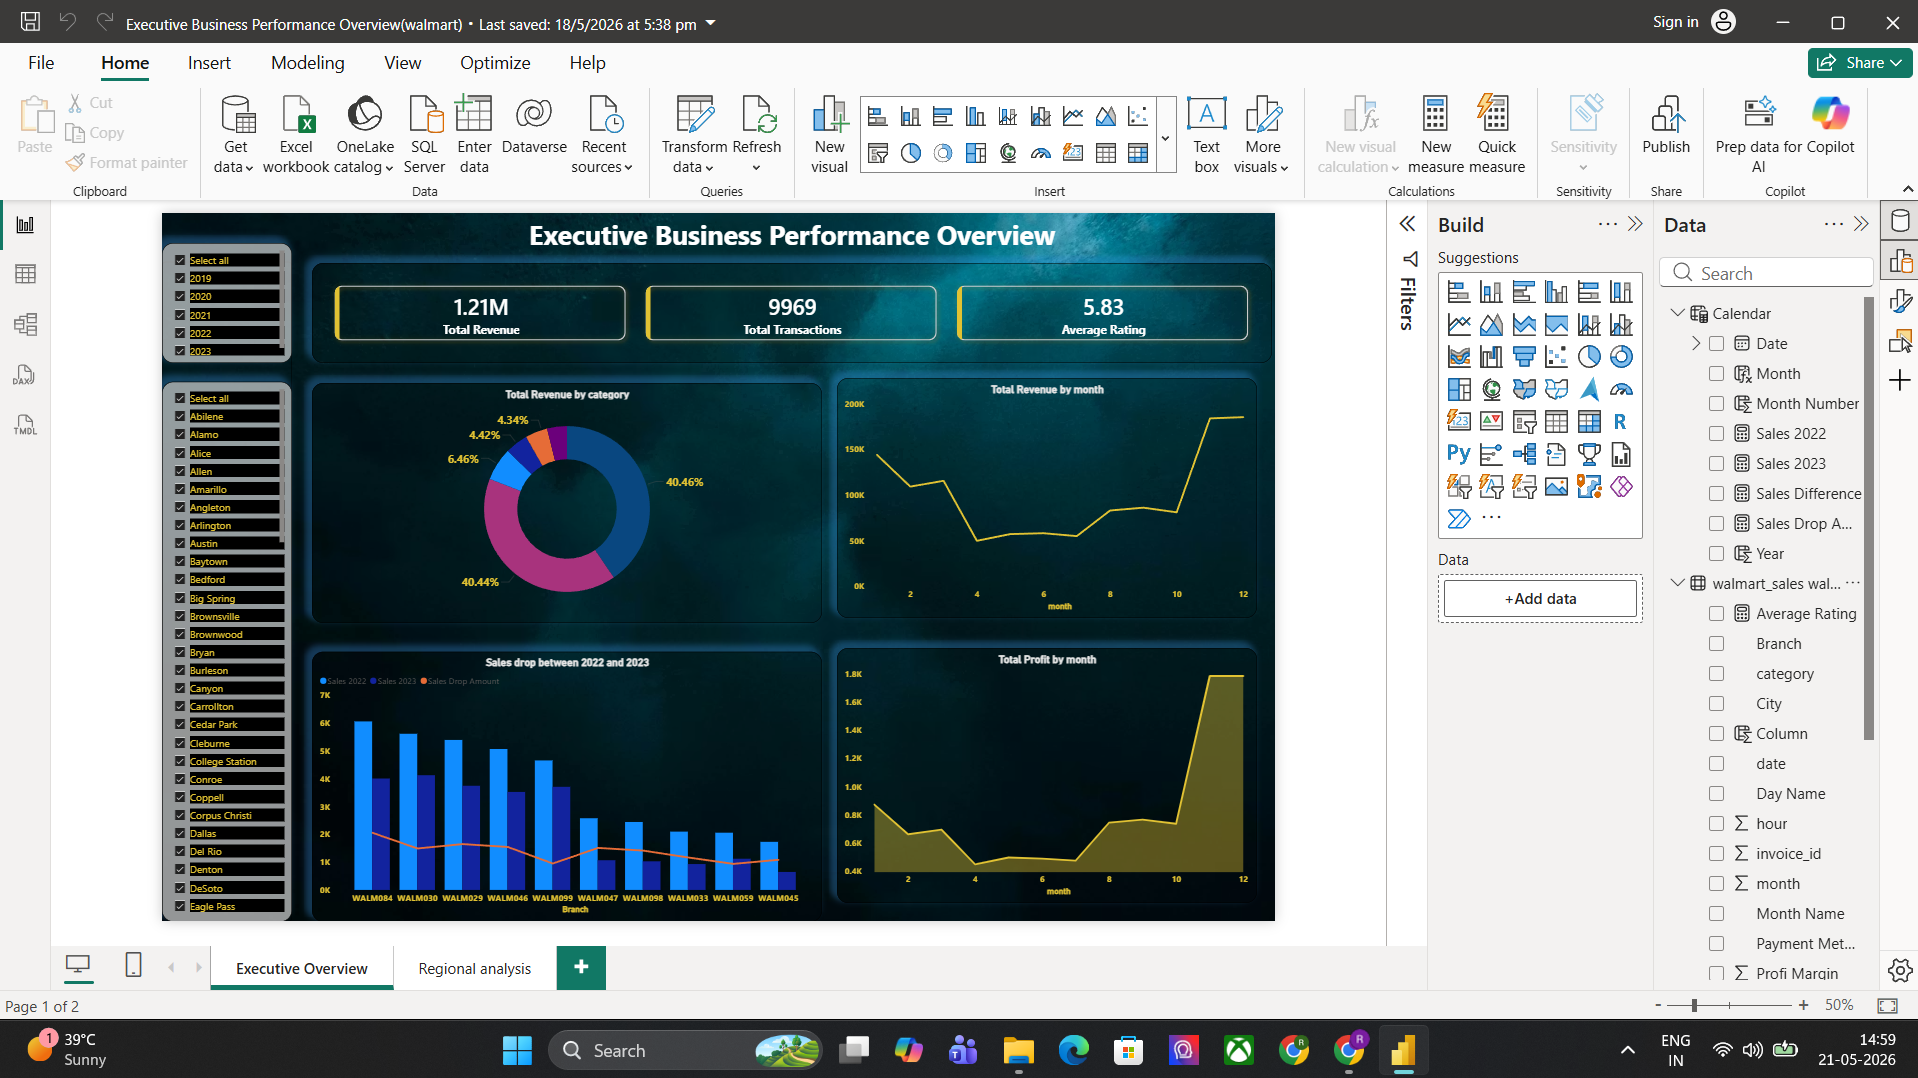

This screenshot's page, from the dashboard's own definition file:
{"tool":"powerbi","page":{"name":"Executive Overview","canvas":[1780,1133],"ordinal":0},"visuals":[{"type":"textbox","box":[240,0,1536,80],"z":0},{"type":"cardVisual","fields":{"Data":["walmart_sales walmartdata.Total Revenue","walmart_sales walmartdata.Total Transactions","walmart_sales walmartdata.Average Rating"]},"box":[240,80,1536,160],"z":1000},{"type":"shape","box":[0,77,208,1056],"z":2000},{"type":"lineChart","fields":{"Category":["walmart_sales walmartdata.month"],"Y":["walmart_sales walmartdata.Total Revenue"]},"box":[1080,264,672,384],"z":3000},{"type":"stackedAreaChart","title":"Total  Profit by month","fields":{"Category":["walmart_sales walmartdata.month"],"Y":["CountNonNull(walmart_sales walmartdata.Profit)"]},"box":[1080,696,672,408],"z":4000},{"type":"donutChart","fields":{"Category":["walmart_sales walmartdata.category"],"Y":["walmart_sales walmartdata.Total Revenue"]},"box":[240,272,816,384],"z":5000},{"type":"slicer","fields":{"Values":["walmart_sales walmartdata.Year"]},"box":[0,48,208,192],"z":6000},{"type":"slicer","fields":{"Values":["walmart_sales walmartdata.City"]},"box":[0,269,208,864],"z":7000},{"type":"lineClusteredColumnComboChart","title":"Sales drop between 2022 and 2023","fields":{"Category":["walmart_sales walmartdata.Branch"],"Y":["Calendar.Sales 2022","Calendar.Sales 2023"],"Y2":["Calendar.Sales Drop Amount"]},"box":[240,701,816,432],"z":8000}]}

Visuals, with their boxes on the page's 1780x1133 design canvas (x1, y1, x2, y2). These are canvas units, not pixel positions in the 1918x1078 screenshot, which may show the page scaled, cropped or inside an application window:
textbox: 240 0 1776 80
cardVisual - walmart_sales walmartdata.Total Revenue x walmart_sales walmartdata.Total Transactions: 240 80 1776 240
shape: 0 77 208 1133
lineChart - walmart_sales walmartdata.month x walmart_sales walmartdata.Total Revenue: 1080 264 1752 648
"Total  Profit by month" stackedAreaChart: 1080 696 1752 1104
donutChart - walmart_sales walmartdata.category x walmart_sales walmartdata.Total Revenue: 240 272 1056 656
slicer - walmart_sales walmartdata.Year: 0 48 208 240
slicer - walmart_sales walmartdata.City: 0 269 208 1133
"Sales drop between 2022 and 2023" lineClusteredColumnComboChart: 240 701 1056 1133
